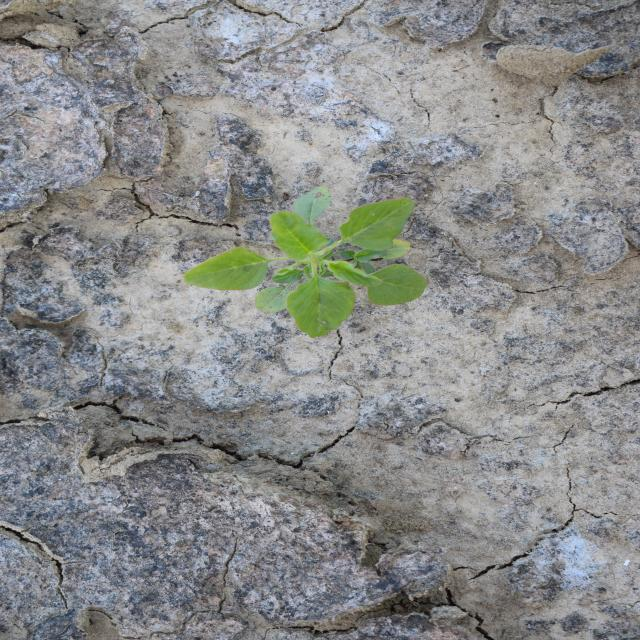PalmerAmaranth: (182, 185, 430, 341)
